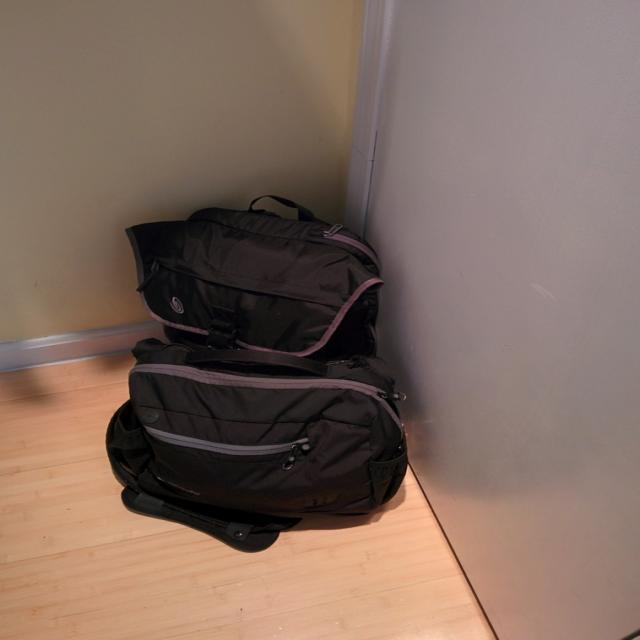backpack: (101, 336, 412, 546), (122, 193, 391, 376)
